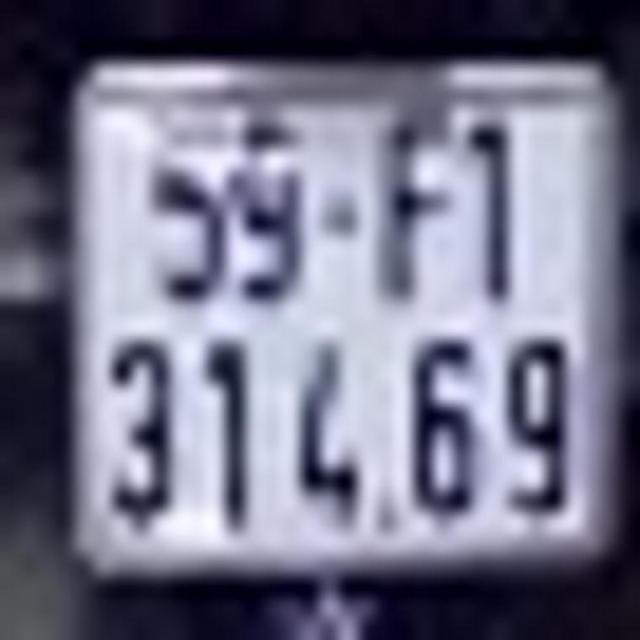1: (201, 330, 257, 533), (469, 121, 518, 304)
3: (105, 328, 179, 539)
4: (290, 330, 366, 537)
5: (152, 121, 222, 304)
6: (411, 326, 477, 524)
9: (230, 121, 302, 314), (502, 329, 573, 522)
F: (374, 116, 462, 303)
